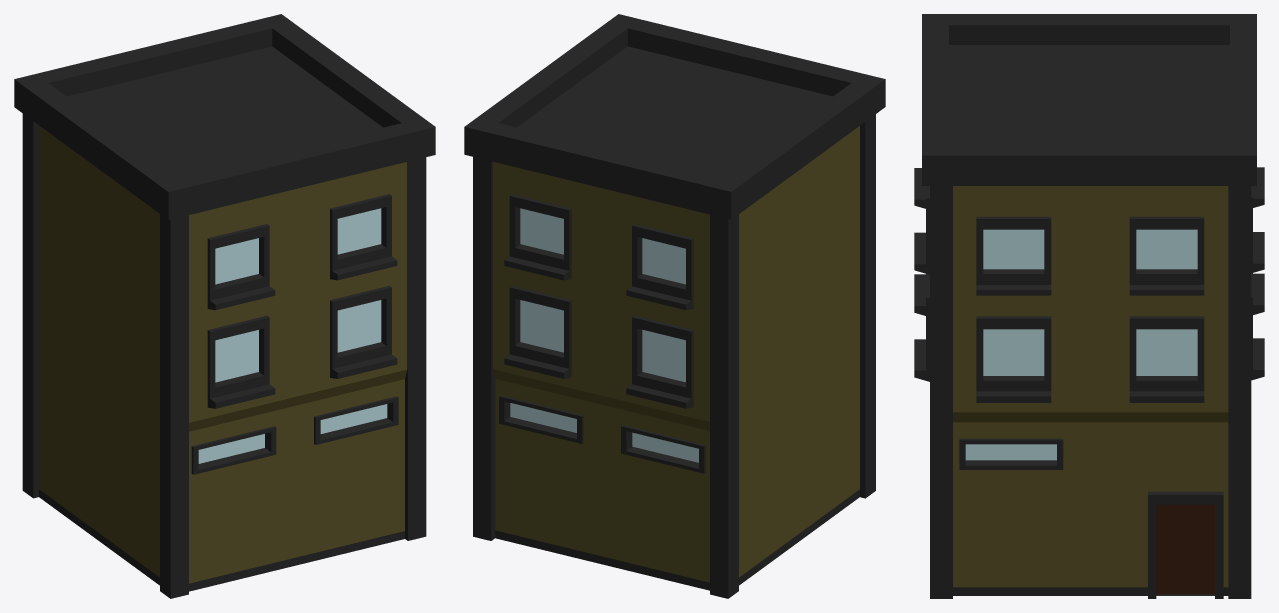
File: house_short_U.fbx
The picture shows the model from 3 angles, left to right: view 1: azimuth 30°, elevation 25°; view 2: azimuth 150°, elevation 25°; view 3: azimuth 270°, elevation 25°; orthographic projection. The views are drawn at different scales.
Parts seen in each view (by area): view 1: Base.116; view 2: Base.116; view 3: Base.116.
Part boxes in pixels (left/top/right/bottom): Base.116: left=14, top=14, right=435, bottom=598; Base.116: left=464, top=14, right=885, bottom=598; Base.116: left=914, top=14, right=1264, bottom=598.
Size of the model in its own units: 895 by 1285 by 915.
